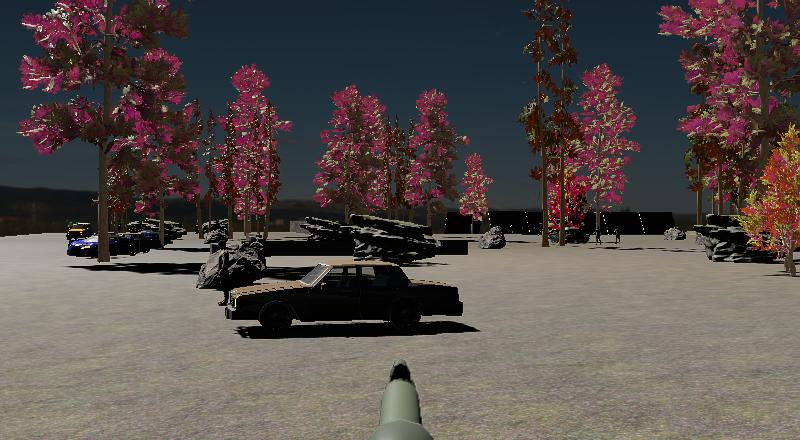car: (226, 259, 461, 336), (222, 261, 465, 333), (65, 232, 150, 260), (64, 220, 94, 242)
